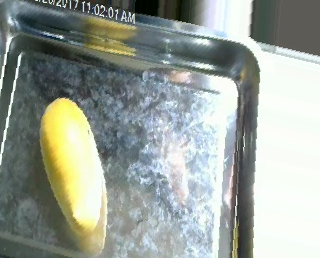Mango: (33, 95, 108, 233)
